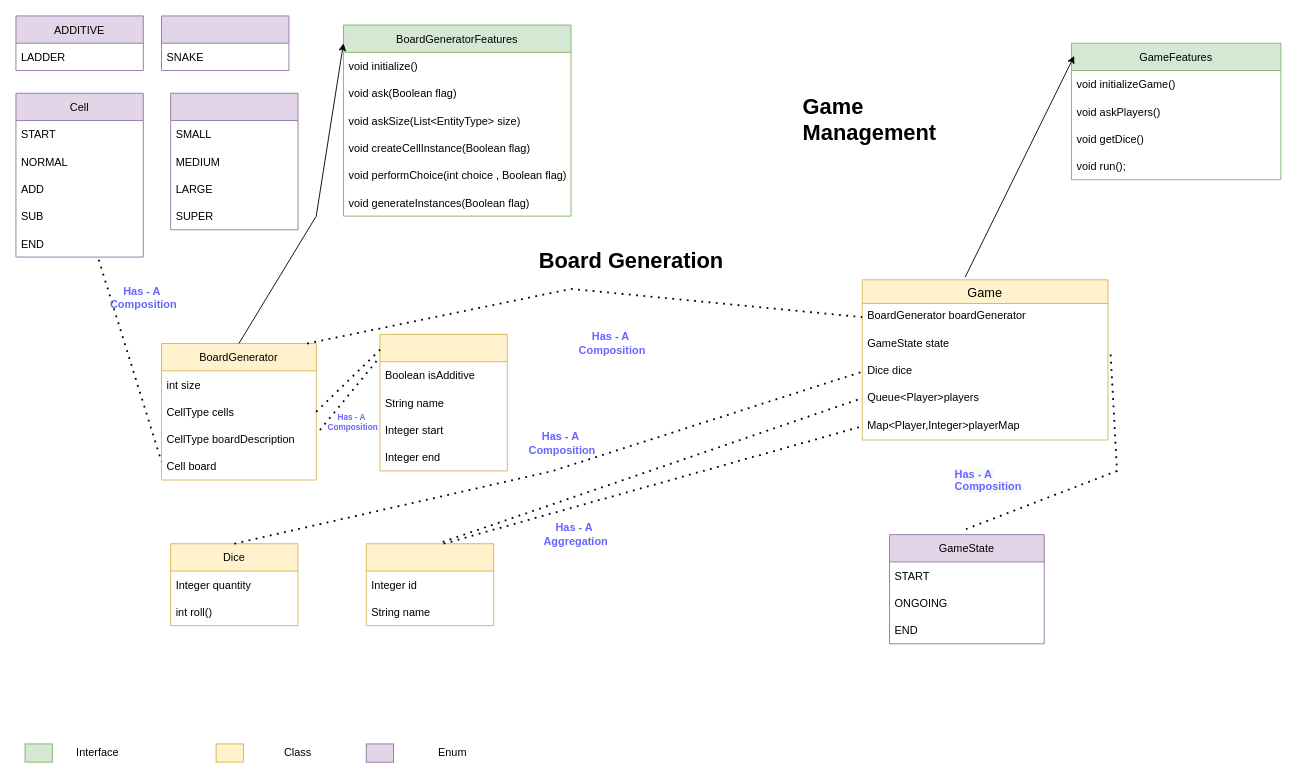
Some shapes in this 1297 by 783 pixel diagram are drawn without their labels. Here are the shapes that lost their labels. From the top down, the box of each, then its label:
(161, 15, 289, 71): SUBTRACTIVE
(170, 92, 298, 230): EntityType
(379, 334, 507, 471): CellType
(365, 543, 494, 626): Player
